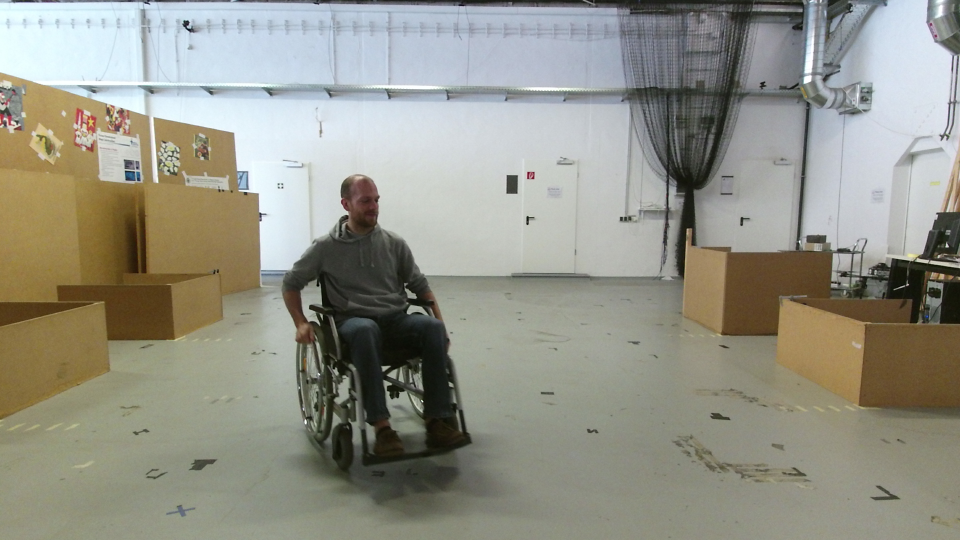wheelchair: (272, 171, 471, 471)
